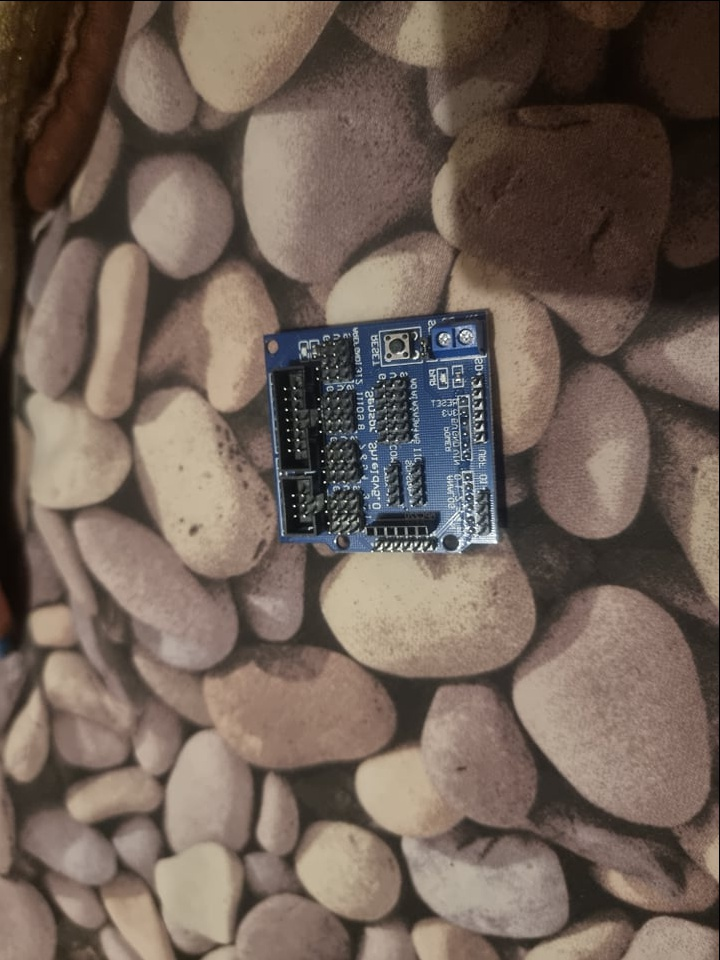5V EXPANSION: (263, 312, 496, 550)
